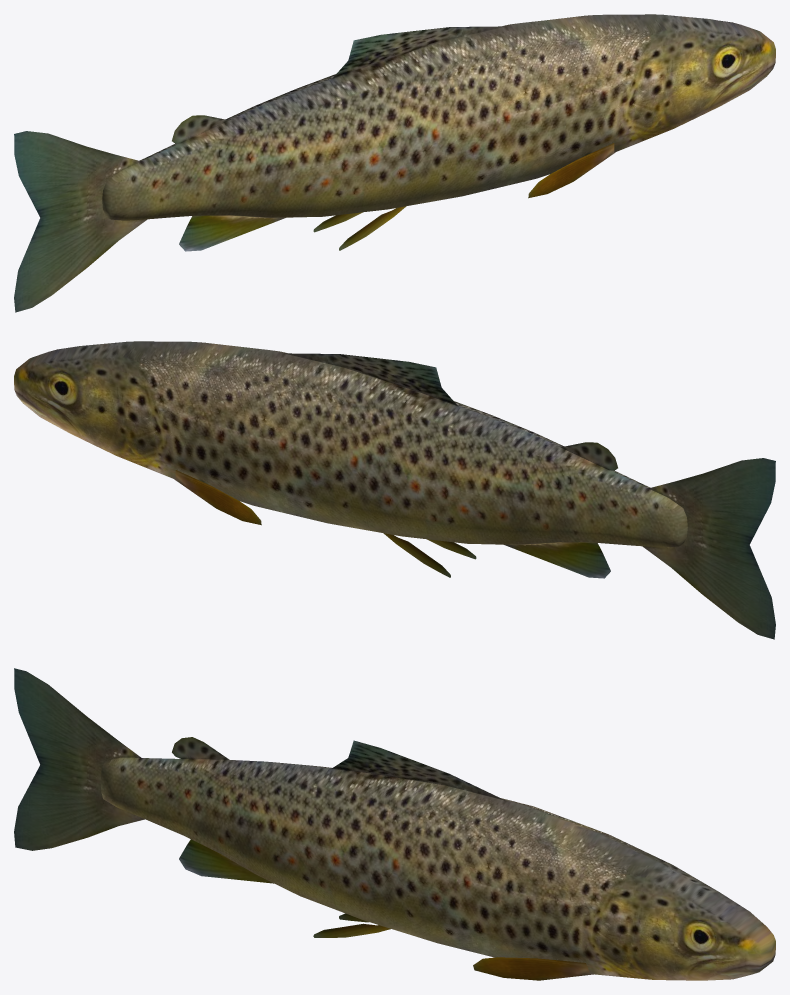
Rendered from BrownTrout.glb.
3 views of the same model, one above another, from view 1: azimuth 30°, elevation 25°; view 2: azimuth 150°, elevation 25°; view 3: azimuth 330°, elevation 25° (orthographic).
Parts seen in each view (by area): view 1: BrownTrout; view 2: BrownTrout; view 3: BrownTrout.
Boxes of the visible parts, box(x1,y1,x2,y2) form: BrownTrout: box(14, 14, 775, 312); BrownTrout: box(14, 341, 775, 639); BrownTrout: box(14, 668, 775, 980).
Bounding box in the file's own units: 2 × 0.4912 × 0.2555.
1 material, 1 textured.
